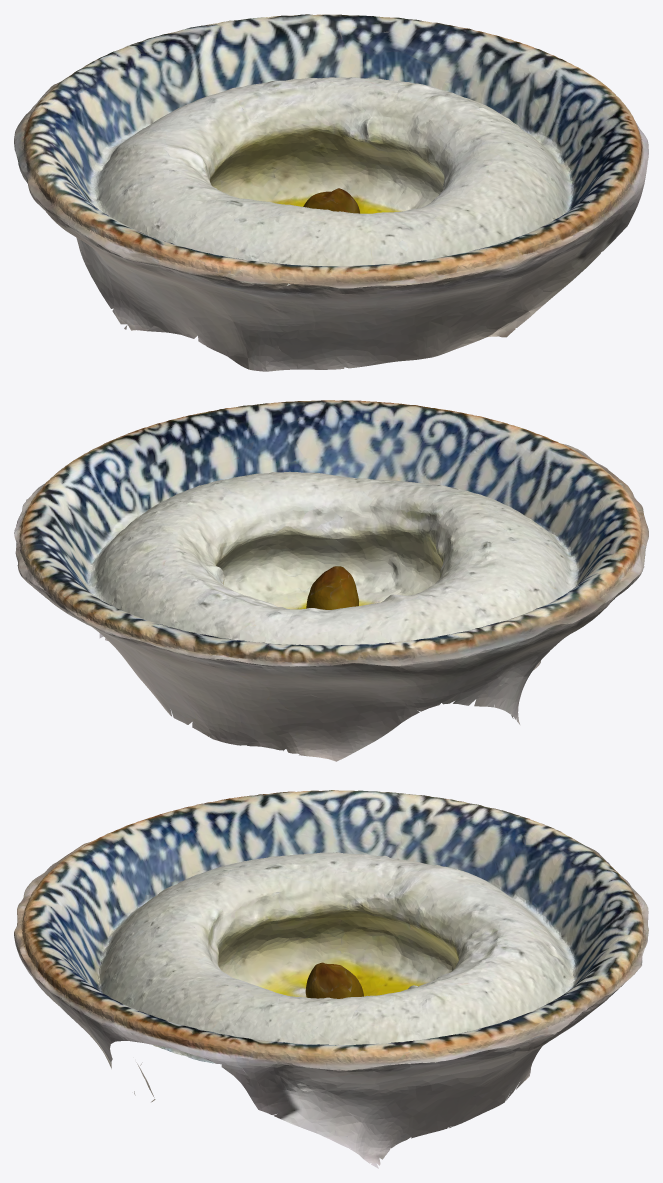
The model's file is labneh-cu-usturoi-si-menta.glb.
3 views of the same model, one above another, from view 1: azimuth 30°, elevation 25°; view 2: azimuth 150°, elevation 25°; view 3: azimuth 270°, elevation 25° (orthographic).
Bounding box in the file's own units: 0.1619 × 0.0424 × 0.1615.
Materials: 1 (1 with a texture image).
